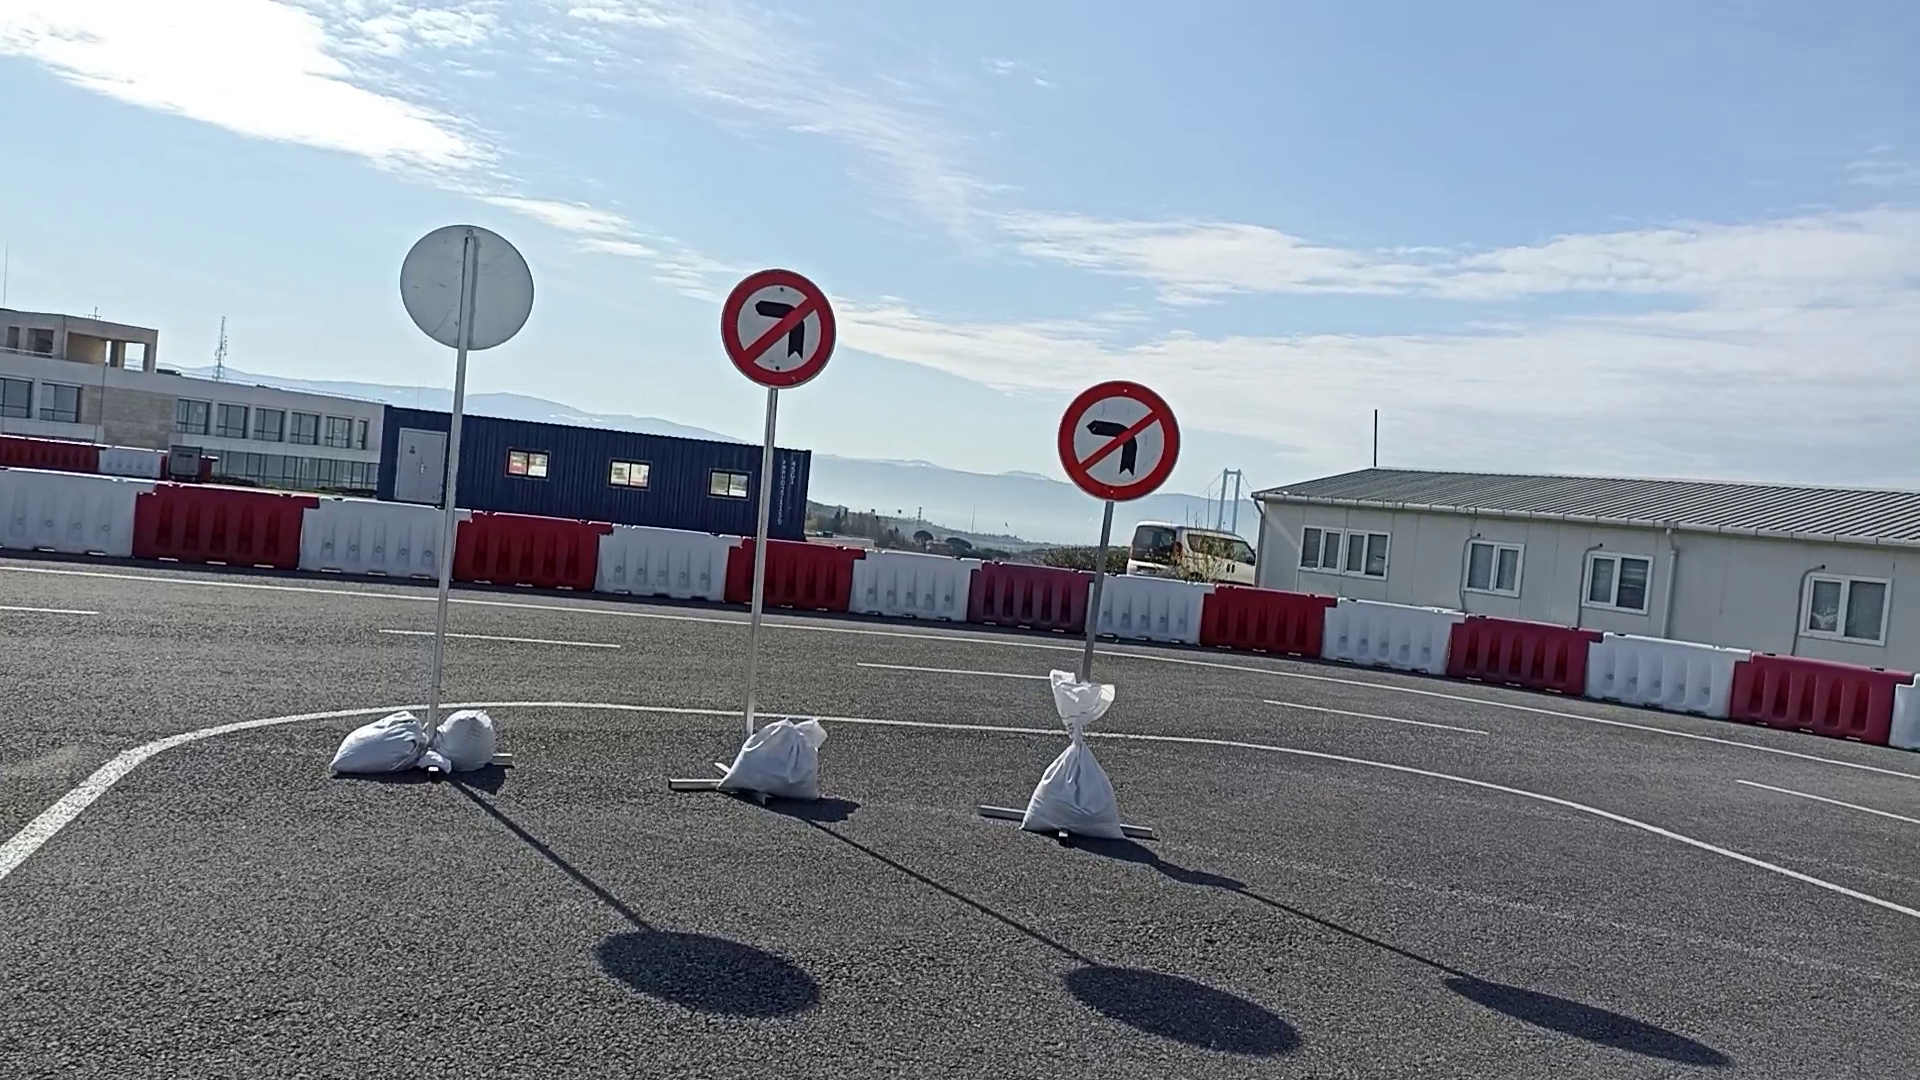noleft: (1056, 378, 1182, 502), (716, 266, 837, 390)
